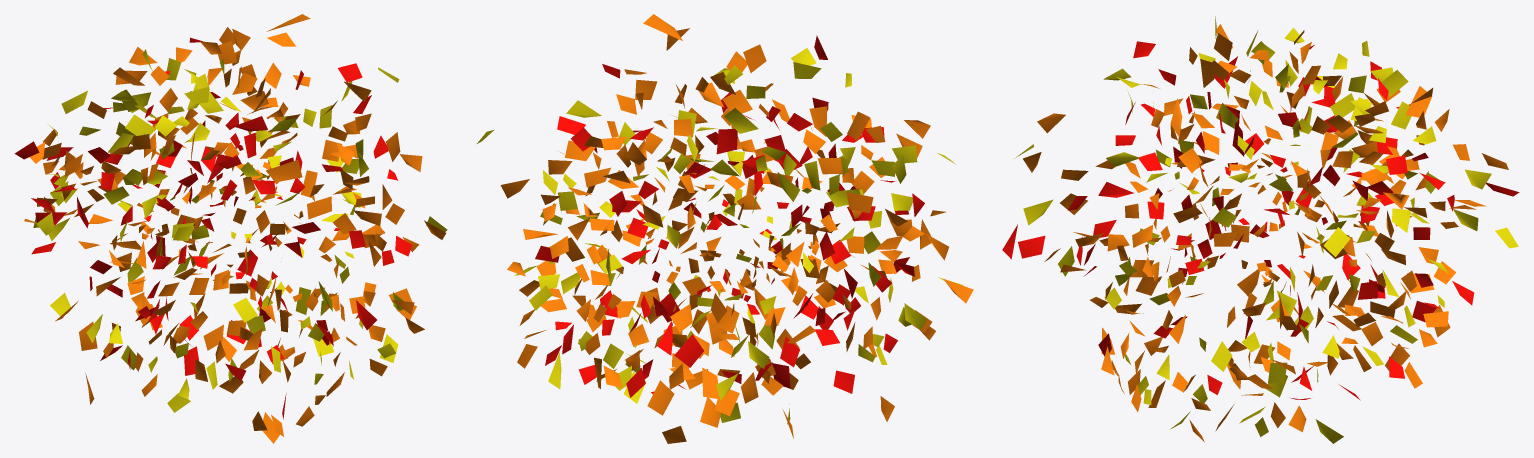
File: leafsThin2.fbx
The picture shows the model from 3 angles, left to right: view 1: azimuth 30°, elevation 25°; view 2: azimuth 150°, elevation 25°; view 3: azimuth 270°, elevation 25°; orthographic projection. The views are drawn at different scales.
Visible parts, largest first — view 1: leafsThin2_LOD0; view 2: leafsThin2_LOD0; view 3: leafsThin2_LOD0.
Part boxes in pixels (box(x1,y1,x2,y2)): leafsThin2_LOD0: box(14, 14, 447, 443); leafsThin2_LOD0: box(477, 14, 973, 443); leafsThin2_LOD0: box(1002, 16, 1519, 443).
Size of what is drawn, in the model's own units: 843 by 738 by 878.
